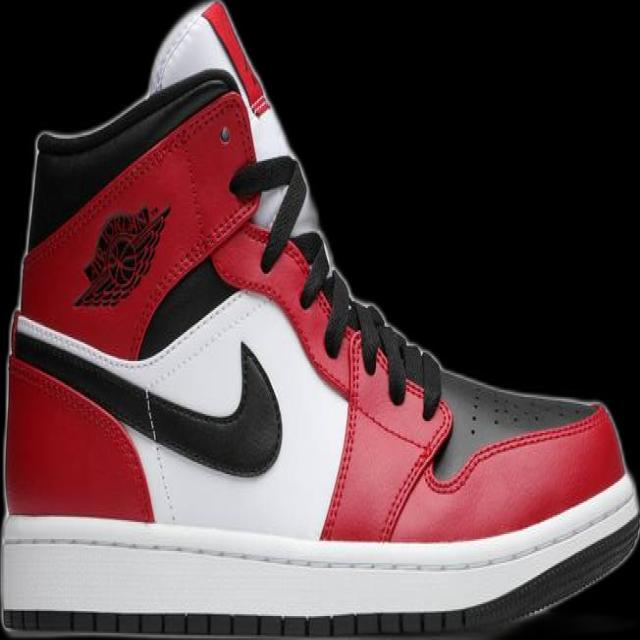J1_InsoleChar: (0, 0, 639, 639)
J1_ShoeLogo: (71, 202, 171, 309)
J1_StitchPattern: (146, 0, 445, 422), (0, 501, 638, 636), (228, 152, 444, 421), (10, 310, 284, 478), (290, 231, 444, 417), (2, 608, 465, 638), (347, 299, 441, 414), (228, 152, 308, 272), (199, 0, 274, 117), (460, 380, 599, 440), (137, 385, 179, 524), (401, 342, 443, 420), (319, 267, 354, 357), (293, 230, 331, 309), (463, 384, 484, 438)
